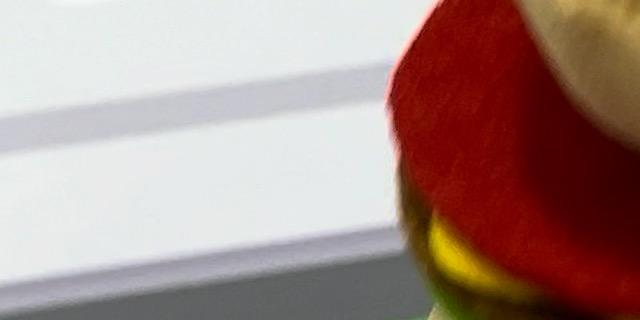burger: (354, 0, 640, 320)
